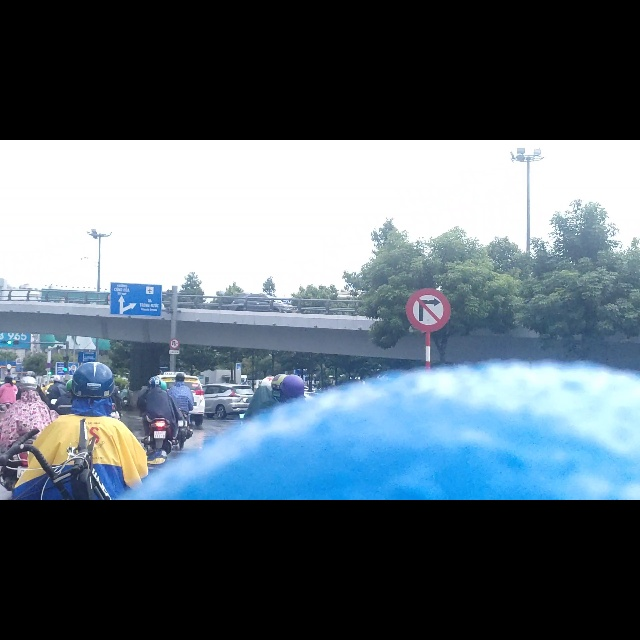bien_chi_dan: (407, 263, 451, 342), (169, 352, 180, 372)
